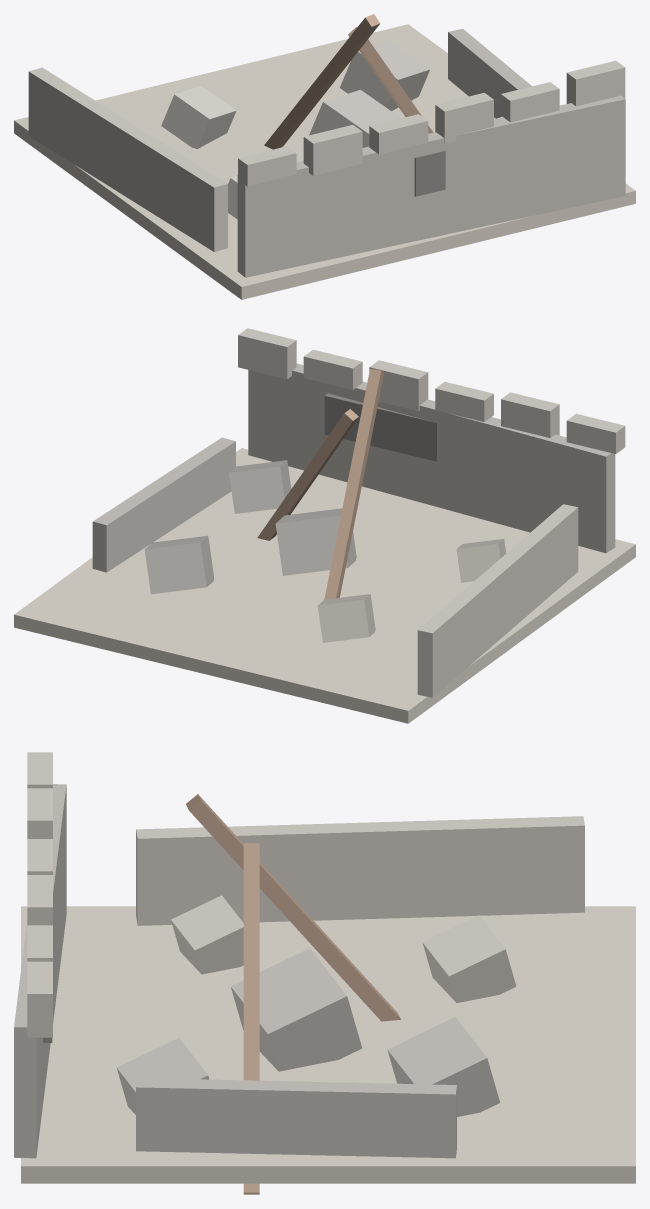
The model's file is building_burnt_2.glb.
3 renders of one model, top to bottom at view 1: azimuth 30°, elevation 25°; view 2: azimuth 150°, elevation 25°; view 3: azimuth 270°, elevation 25°, orthographic. The views are drawn at different scales.
Visible parts, largest first — view 1: building_burnt_2; view 2: building_burnt_2; view 3: building_burnt_2.
Boxes of the visible parts, left/top/right/bottom form: building_burnt_2: left=14, top=14, right=635, bottom=299; building_burnt_2: left=14, top=328, right=635, bottom=723; building_burnt_2: left=14, top=752, right=635, bottom=1194.
Size of the model in its own units: 1.94 by 1.13 by 1.94.
